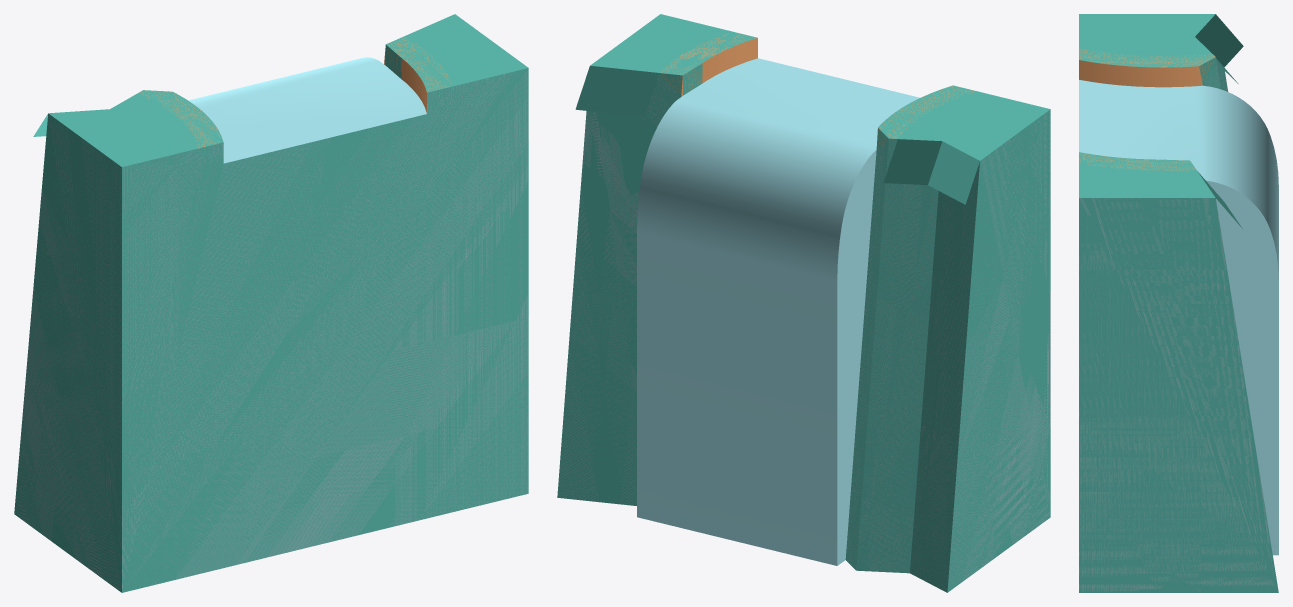
Rendered from cliffGrey_waterfallTop.obj.
3 renders of one model, left to right at view 1: azimuth 30°, elevation 25°; view 2: azimuth 150°, elevation 25°; view 3: azimuth 270°, elevation 25°, orthographic. The views are drawn at different scales.
Visible parts, largest first — view 1: cliffGrey_waterfallTop; view 2: cliffGrey_waterfallTop; view 3: cliffGrey_waterfallTop.
Boxes of the visible parts, x1,y1,x2,y2 form: cliffGrey_waterfallTop: (14,14,528,592); cliffGrey_waterfallTop: (557,14,1050,592); cliffGrey_waterfallTop: (1079,14,1278,592).
Size of the model in its own units: 10 by 10 by 4.58.
